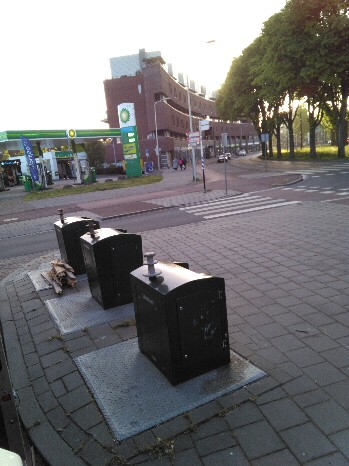Container: (106, 261, 239, 363), (57, 215, 111, 273), (79, 229, 128, 292)
Rest: (44, 254, 73, 293)
